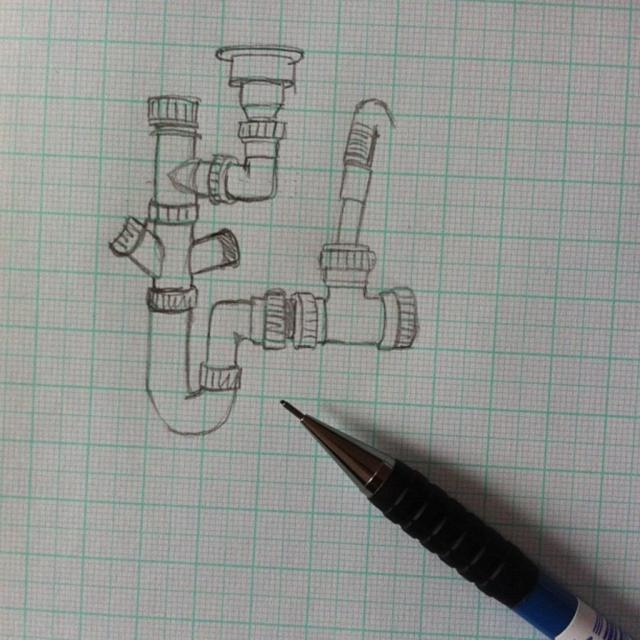pen: (276, 399, 633, 639)
